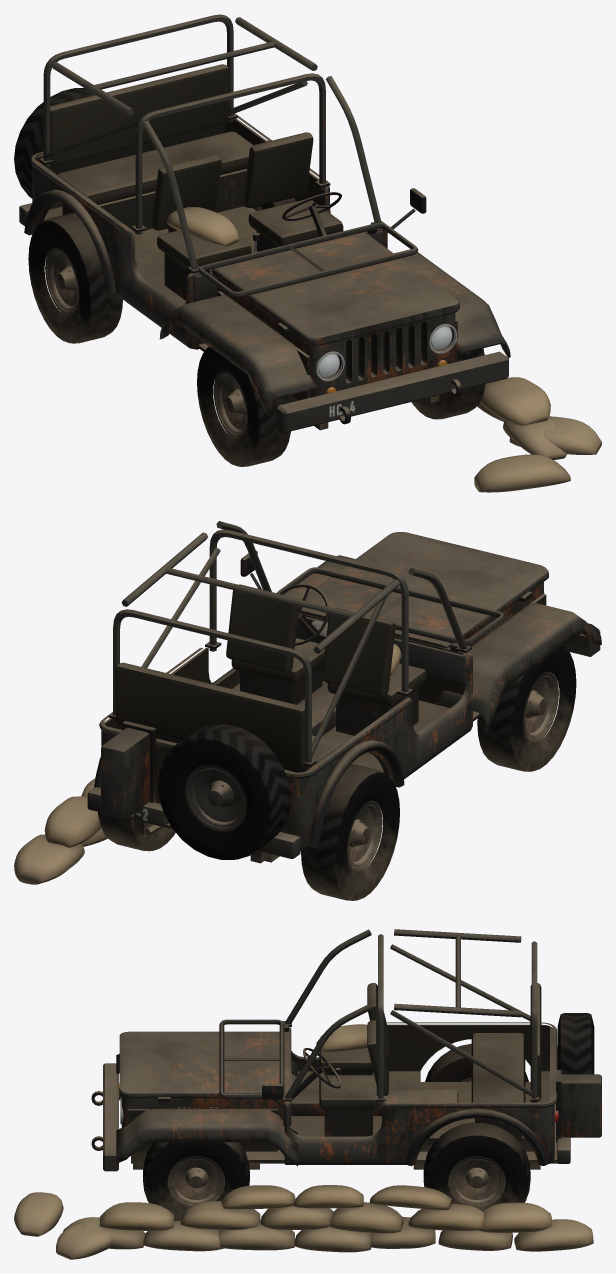
The model's file is nuketown_jeep.glb.
The picture shows the model from 3 angles, top to bottom: view 1: azimuth 30°, elevation 25°; view 2: azimuth 150°, elevation 25°; view 3: azimuth 270°, elevation 25°; orthographic projection. The views are drawn at different scales.
Parts seen in each view (by area): view 1: jeep_A, jeep_B; view 2: jeep_A, jeep_B; view 3: jeep_A, jeep_B.
Boxes of the visible parts, box(x1,y1,x2,y2) form: jeep_A: box(14, 14, 510, 466); jeep_B: box(50, 64, 601, 492); jeep_A: box(87, 521, 601, 900); jeep_B: box(14, 584, 481, 884); jeep_A: box(91, 929, 601, 1220); jeep_B: box(14, 983, 593, 1259).
Size of the model in its own units: 2.2 by 1.81 by 4.4.
2 materials, 2 textured.
